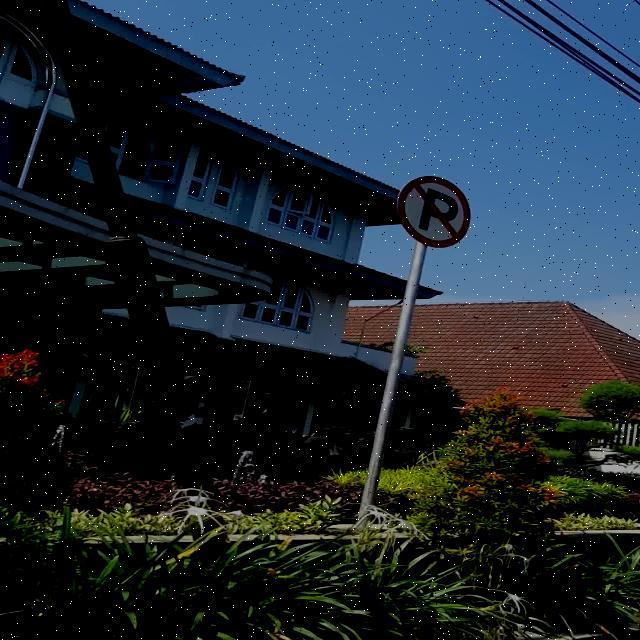Dilarang Parkir: (396, 175, 472, 249)
